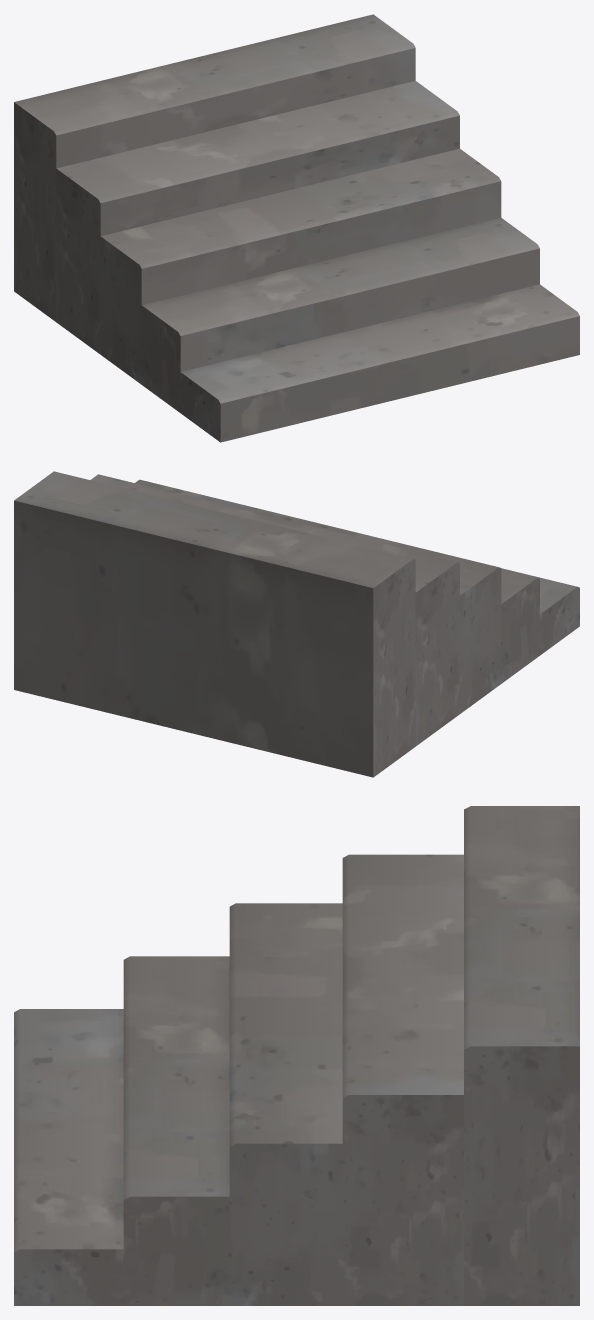
File: Stairs_Entrance_Concrete.glb
3 views of the same model, one above another, from view 1: azimuth 30°, elevation 25°; view 2: azimuth 150°, elevation 25°; view 3: azimuth 270°, elevation 25° (orthographic). The views are drawn at different scales.
Visible parts, largest first — view 1: Stairs_Entrance_Concrete; view 2: Stairs_Entrance_Concrete; view 3: Stairs_Entrance_Concrete.
Part boxes in pixels (x1,y1,x2,y2): Stairs_Entrance_Concrete: [14, 14, 579, 442]; Stairs_Entrance_Concrete: [14, 471, 579, 777]; Stairs_Entrance_Concrete: [14, 806, 579, 1305].
Size of the model in its own units: 2 by 1.01 by 1.99.
2 materials, 2 textured.
